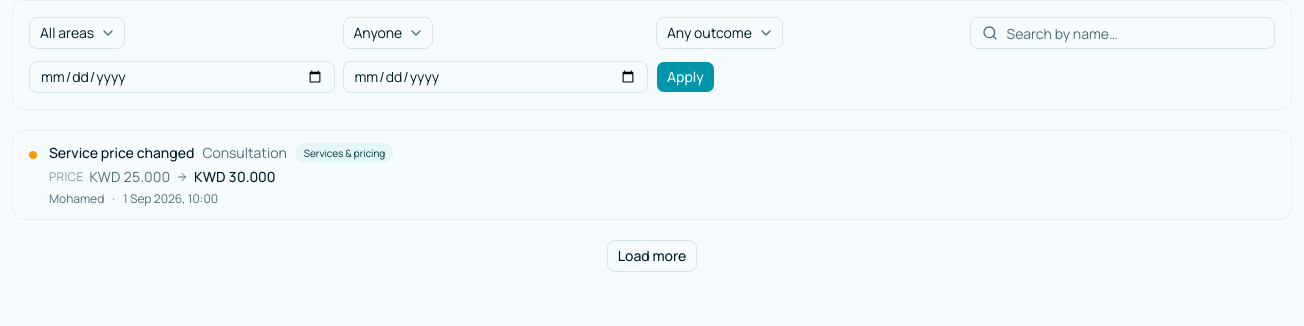
Test: audit log — filtering and pagination › pages with a cursor and appends, never refetching the whole history
Step 1. Click the button "Load more" → (652, 256), box [607, 240, 697, 272]
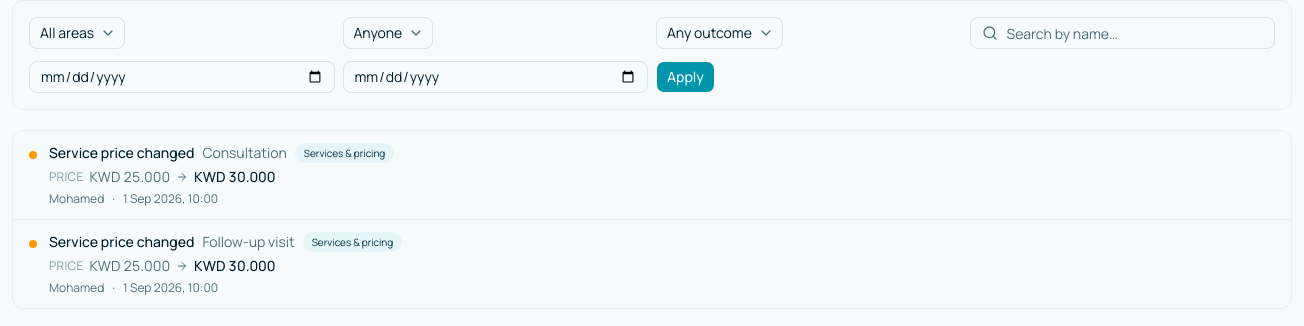
expect the text "Consultation" is shown: met, box [202, 143, 287, 163]
expect the text "Follow-up visit" is shown: met, box [202, 232, 295, 252]
